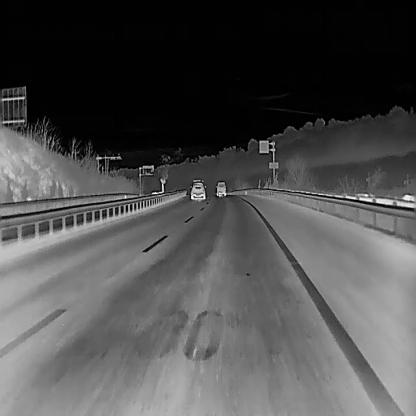car: (189, 181, 206, 200), (214, 180, 226, 196)
